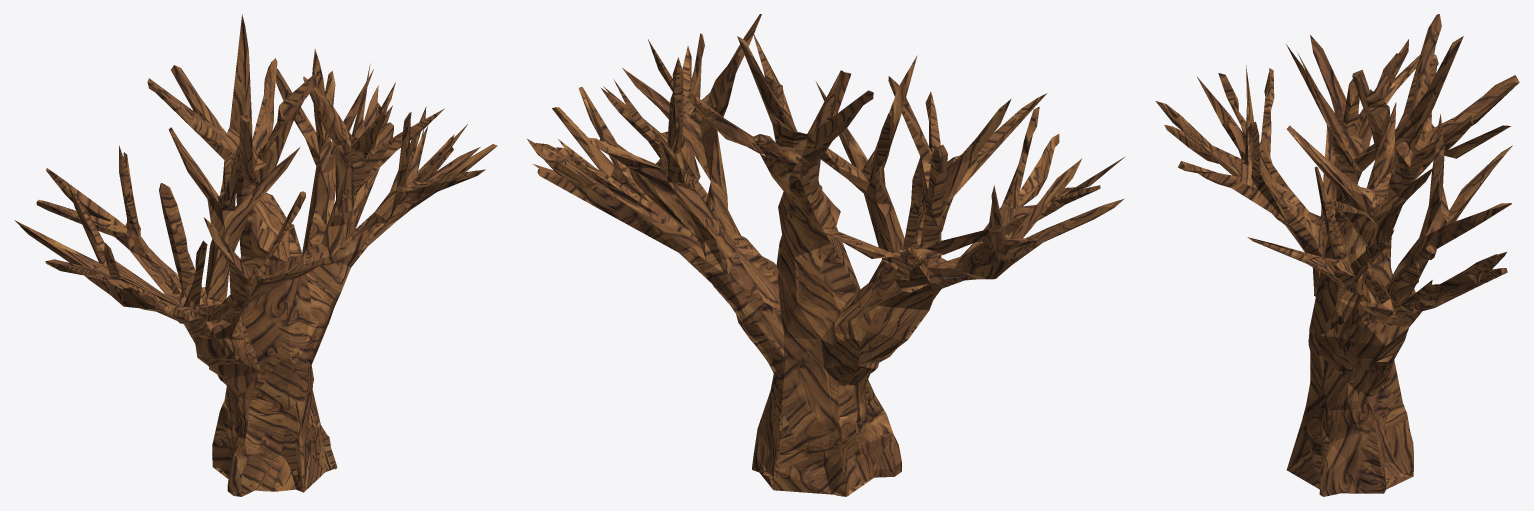
The model's file is tree with barktexture.fbx.
The picture shows the model from 3 angles, left to right: view 1: azimuth 30°, elevation 25°; view 2: azimuth 150°, elevation 25°; view 3: azimuth 270°, elevation 25°; orthographic projection. The views are drawn at different scales.
Parts seen in each view (by area): view 1: BEtter TRee; view 2: BEtter TRee; view 3: BEtter TRee.
Part boxes in pixels (x1,y1,x2,y2): BEtter TRee: [14, 14, 497, 496]; BEtter TRee: [527, 14, 1125, 496]; BEtter TRee: [1155, 14, 1519, 496].
Size of the model in its own units: 17055 by 14104 by 10464.
1 material, 1 textured.
